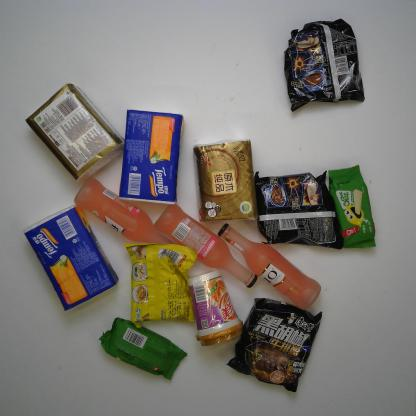Alcohol: (219, 222, 326, 310), (152, 204, 259, 288), (72, 179, 176, 253)
Dessert: (99, 317, 188, 381), (328, 163, 376, 249)
Instant Drink: (185, 263, 243, 350)
Instant Noodles: (229, 297, 323, 394), (252, 168, 344, 250), (286, 18, 366, 110), (123, 239, 194, 323)
Tissue: (21, 203, 120, 313), (25, 86, 123, 181), (120, 108, 184, 204), (192, 138, 260, 223)
